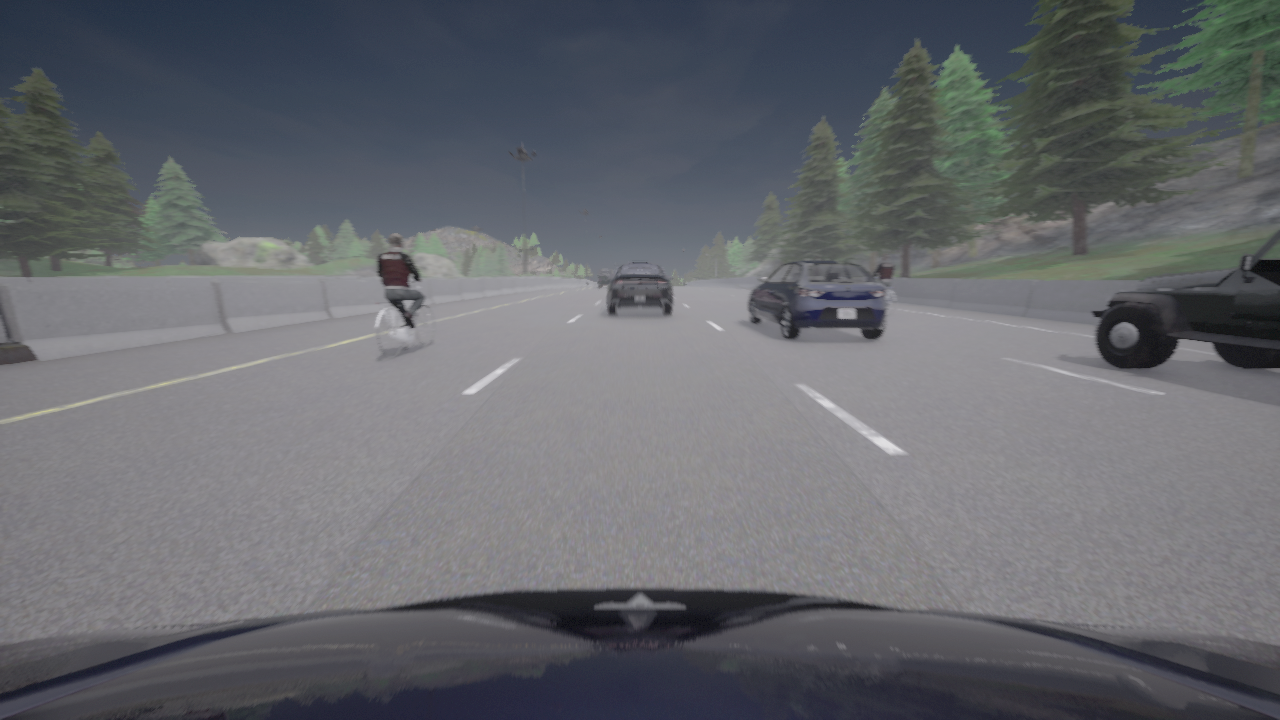cyclist: (0, 588, 1279, 719), (1091, 229, 1279, 369), (747, 260, 887, 339), (375, 280, 434, 358), (607, 263, 672, 315), (597, 269, 614, 287), (886, 287, 895, 315), (628, 262, 651, 263)
